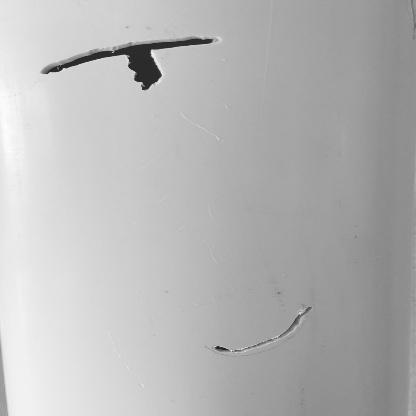fengxi: (23, 33, 222, 75), (211, 305, 313, 357)
kongdong: (121, 55, 170, 96)
